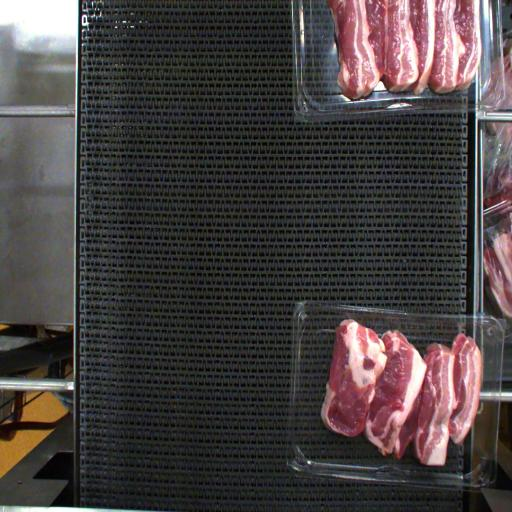packaging-error: (347, 308, 358, 326)
